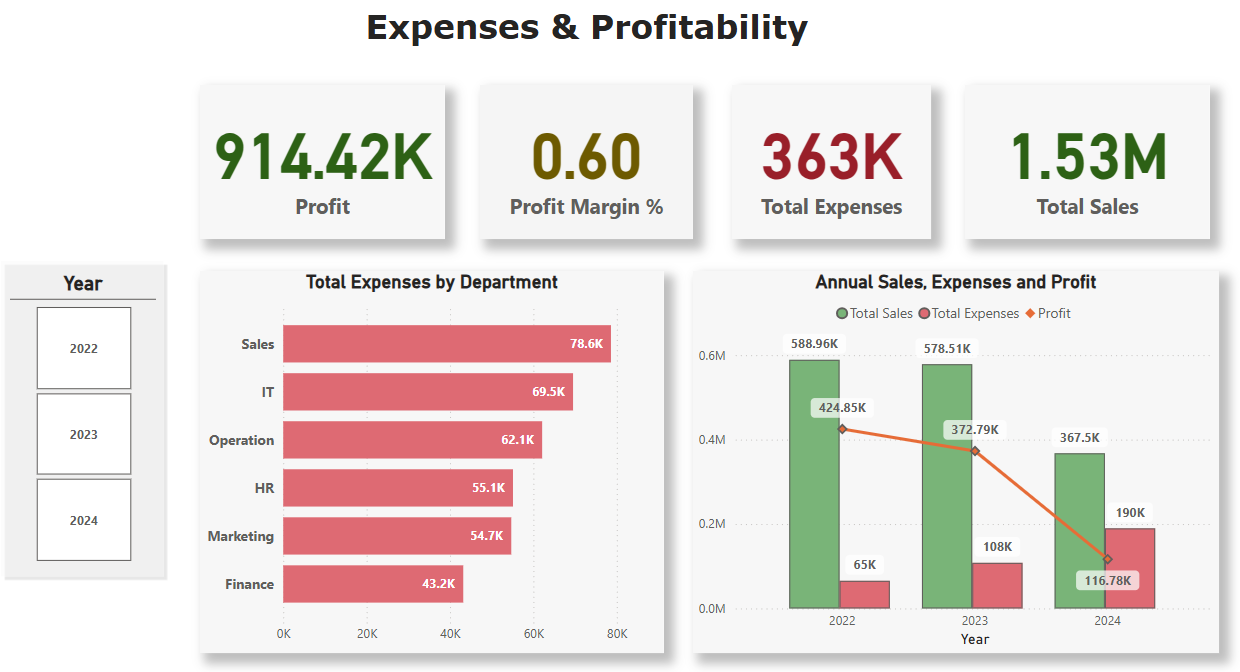

What the dashboard file says about the page in this screenshot:
{"tool":"powerbi","page":{"name":"Expenses & Profitability","canvas":[1280,720],"ordinal":4},"visuals":[{"type":"shape","box":[65.2,265.5,168.3,317.1],"z":0},{"type":"textbox","box":[0,17.5,1280,54.5],"z":2000},{"type":"slicer","title":"Year","fields":{"Values":["date_table.Year"]},"box":[78.8,280.1,142,287.9],"z":3000},{"type":"card","fields":{"Values":["sales_table.Total Sales"]},"box":[1007.7,99.2,238.3,149.8],"z":5000},{"type":"card","fields":{"Values":["expenses_table.Total Expenses"]},"box":[781,99.2,193.6,149.8],"z":6000},{"type":"card","fields":{"Values":["expenses_table.Profit"]},"box":[263.6,99.2,238.3,149.8],"z":7000},{"type":"card","fields":{"Values":["expenses_table.Profit Margin %"]},"box":[535.9,99.2,207.2,149.8],"z":8000},{"type":"lineClusteredColumnComboChart","title":"Annual Sales, Expenses and Profit","fields":{"Category":["date_table.Year"],"Y":["sales_table.Total Sales","expenses_table.Total Expenses"],"Y2":["expenses_table.Profit"]},"box":[743.1,280.1,511.6,371.6],"z":9000},{"type":"clusteredBarChart","title":"Total Expenses by Department","fields":{"Category":["expenses_table.Department"],"Y":["expenses_table.Total Expenses"]},"box":[263.6,280.1,451.3,371.6],"z":10000}]}

Visuals, with their boxes on the page's 1280x720 design canvas (x1, y1, x2, y2). These are canvas units, not pixel positions in the 1240x672 screenshot, which may show the page scaled, cropped or inside an application window:
shape: <bbox>65, 266, 234, 583</bbox>
textbox: <bbox>0, 18, 1280, 72</bbox>
"Year" slicer: <bbox>79, 280, 221, 568</bbox>
card - sales_table.Total Sales: <bbox>1008, 99, 1246, 249</bbox>
card - expenses_table.Total Expenses: <bbox>781, 99, 975, 249</bbox>
card - expenses_table.Profit: <bbox>264, 99, 502, 249</bbox>
card - expenses_table.Profit Margin %: <bbox>536, 99, 743, 249</bbox>
"Annual Sales, Expenses and Profit" lineClusteredColumnComboChart: <bbox>743, 280, 1255, 652</bbox>
"Total Expenses by Department" clusteredBarChart: <bbox>264, 280, 715, 652</bbox>
